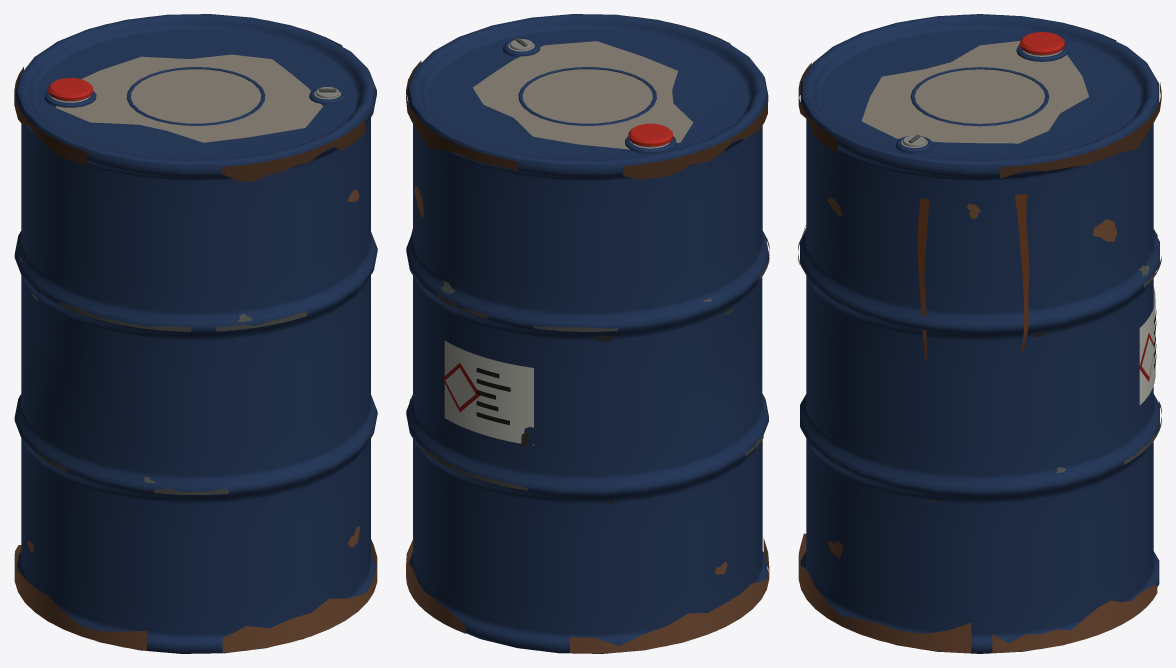
The model's file is barrel.glb.
3 renders of one model, left to right at view 1: azimuth 30°, elevation 25°; view 2: azimuth 150°, elevation 25°; view 3: azimuth 270°, elevation 25°, orthographic.
Parts seen in each view (by area): view 1: fass0, fass11, fass1, fass2, fass3, fass5; view 2: fass0, fass11, fass6, fass1, fass2, fass3, fass5, fass8; view 3: fass0, fass11, fass1, fass2, fass10, fass6, fass5, fass3.
Part boxes in pixels (x1,y1,x2,y2): fass0: [14, 14, 377, 653]; fass11: [55, 54, 322, 142]; fass1: [14, 189, 377, 652]; fass2: [14, 16, 364, 181]; fass3: [19, 88, 336, 494]; fass5: [48, 78, 92, 100]; fass0: [406, 14, 768, 653]; fass11: [473, 41, 693, 149]; fass6: [444, 341, 533, 445]; fass1: [406, 185, 769, 653]; fass2: [406, 17, 767, 179]; fass3: [409, 38, 769, 503]; fass5: [628, 123, 673, 146]; fass8: [476, 367, 510, 425]; fass0: [800, 14, 1159, 653]; fass11: [861, 40, 1088, 143]; fass1: [798, 198, 1157, 653]; fass2: [798, 14, 1161, 178]; fass10: [917, 194, 1029, 359]; fass6: [1139, 287, 1155, 405]; fass5: [1019, 32, 1064, 55]; fass3: [798, 134, 1161, 502].
Bounding box in the file's own units: 0.5941 × 0.8915 × 0.595.
